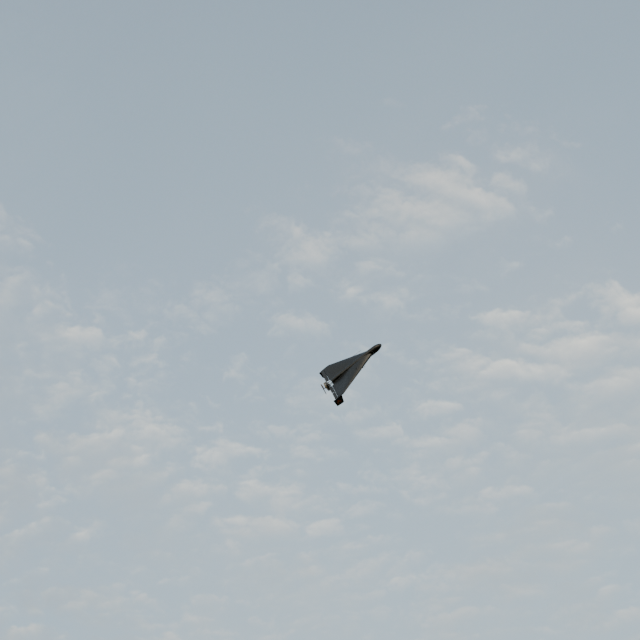shahed: (319, 344, 382, 407)
